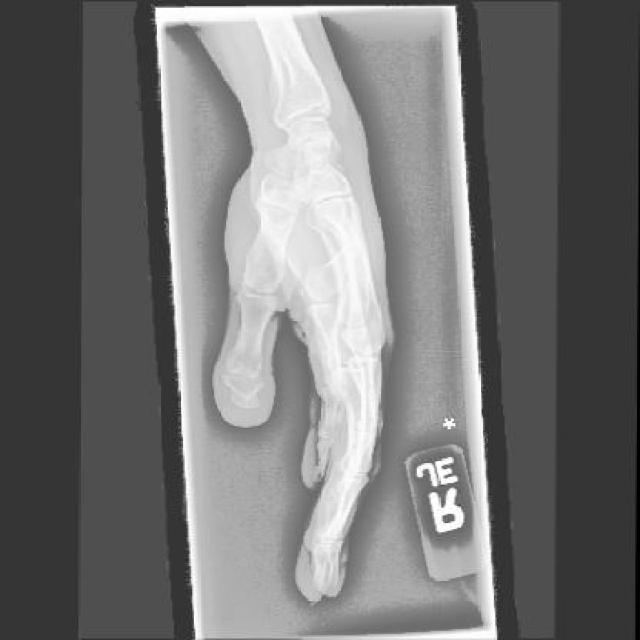Fracture: (334, 231, 367, 257)
